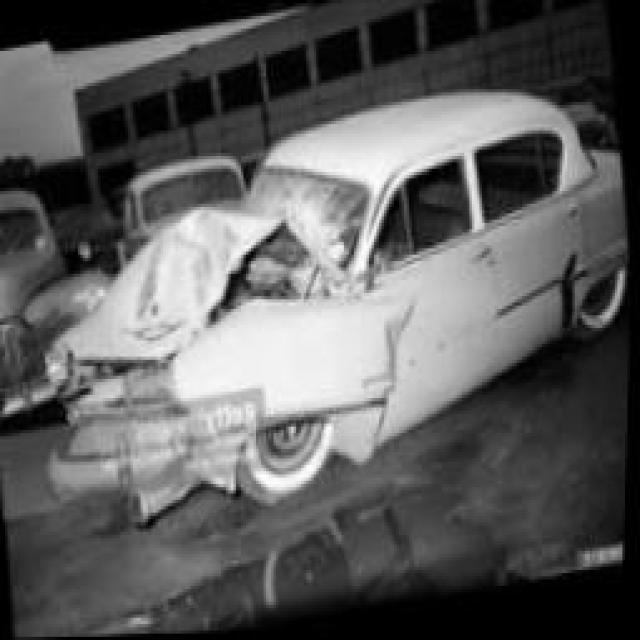Bonnet: (57, 199, 345, 349)
Bumper: (53, 350, 230, 501)
Fender: (172, 290, 389, 492)
Windshield: (240, 166, 369, 271)
